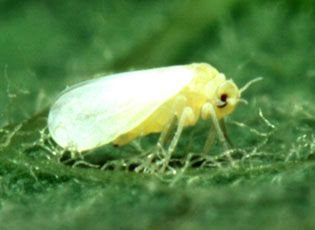Tobacco Whitefly: (37, 57, 254, 170)
